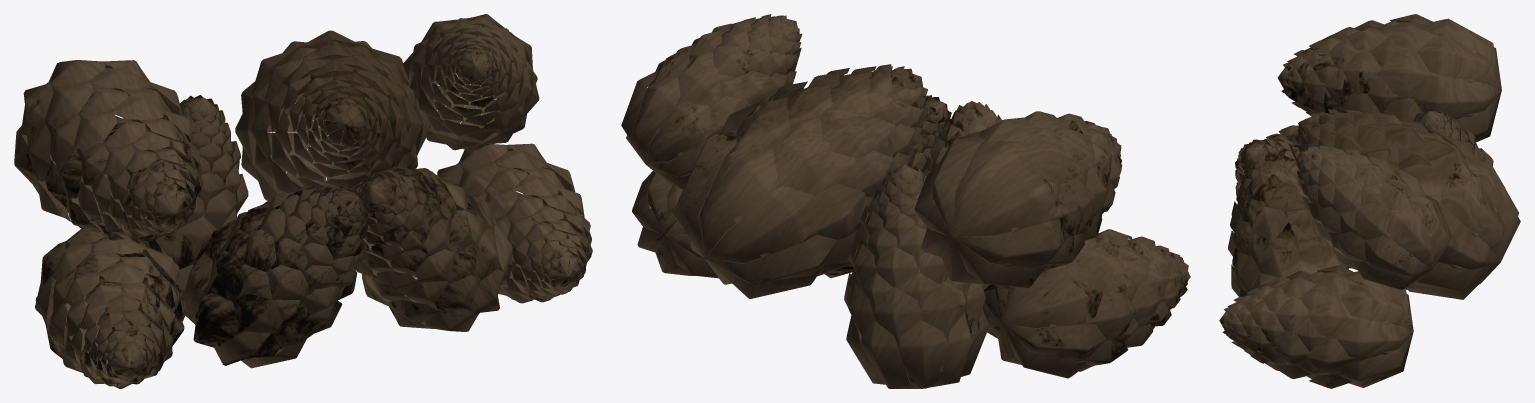
Rendered from pines.gltf.
3 renders of one model, left to right at view 1: azimuth 30°, elevation 25°; view 2: azimuth 150°, elevation 25°; view 3: azimuth 270°, elevation 25°, orthographic. The views are drawn at different scales.
Parts seen in each view (by area): view 1: Allpine; view 2: Allpine; view 3: Allpine.
Boxes of the visible parts, bbox=[...] form: Allpine: bbox=[14, 14, 592, 388]; Allpine: bbox=[621, 14, 1190, 388]; Allpine: bbox=[1219, 14, 1520, 388].
Size of the model in its own units: 34.07 by 17.08 by 20.93.
1 material, 1 textured.
